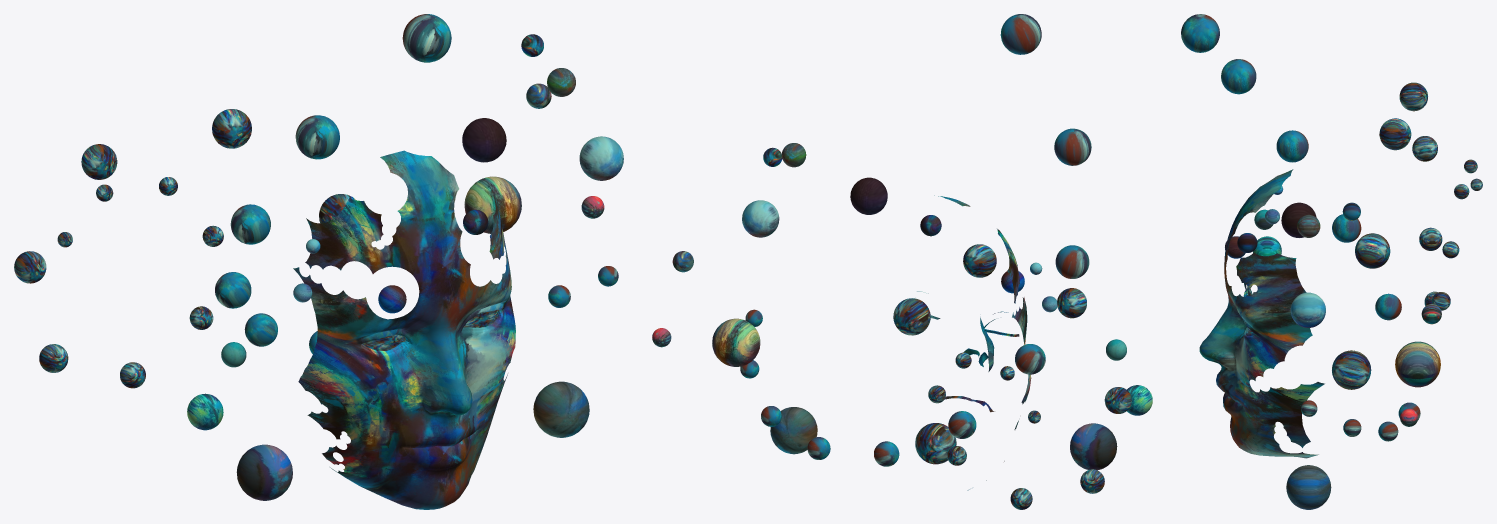
File: Mother Ocean copy beauty mask (copy).glb
The picture shows the model from 3 angles, left to right: view 1: azimuth 30°, elevation 25°; view 2: azimuth 150°, elevation 25°; view 3: azimuth 270°, elevation 25°; orthographic projection. The views are drawn at different scales.
Visible parts, largest first — view 1: Buffer Layer (×2), Sphere.001_Sphere.002, Sphere_Sphere.001, head.001; view 2: Buffer Layer (×2), Sphere_Sphere.001, Sphere.001_Sphere.002; view 3: Buffer Layer (×2), Sphere_Sphere.001, Sphere.001_Sphere.002.
Boxes of the visible parts, left/top/right/bottom form: Buffer Layer (×2): left=187, top=34, right=623, bottom=509; Sphere.001_Sphere.002: left=215, top=14, right=618, bottom=353; Sphere_Sphere.001: left=14, top=109, right=356, bottom=406; head.001: left=363, top=310, right=499, bottom=350; Buffer Layer (×2): left=652, top=143, right=1152, bottom=490; Sphere_Sphere.001: left=893, top=244, right=1131, bottom=509; Sphere.001_Sphere.002: left=740, top=14, right=1091, bottom=466; Buffer Layer (×2): left=1199, top=169, right=1441, bottom=509; Sphere_Sphere.001: left=1332, top=82, right=1482, bottom=389; Sphere.001_Sphere.002: left=1181, top=14, right=1420, bottom=441.
Bounding box in the file's own units: 0.2098 × 0.1846 × 0.1192.
Materials: 1 (1 with a texture image).
